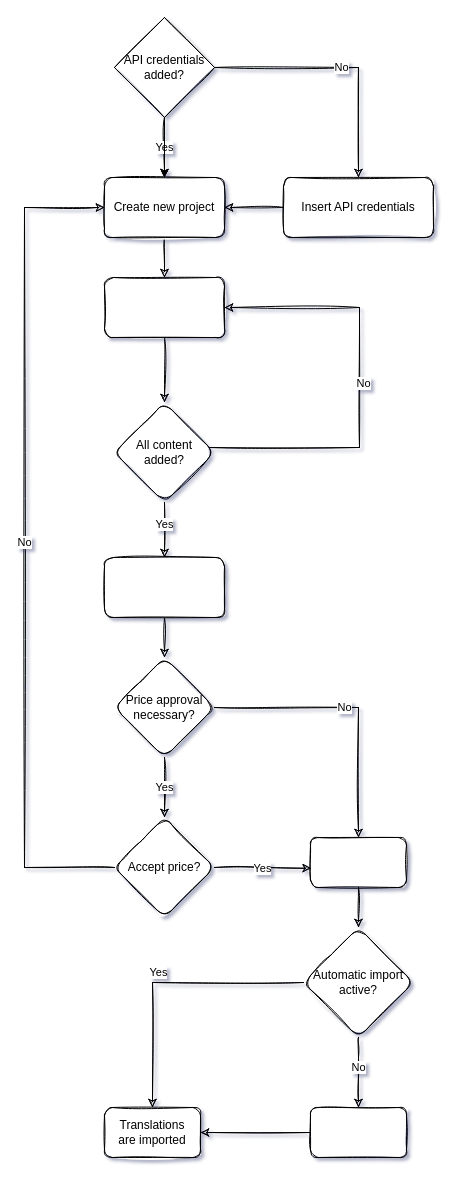
The diagram is 457 pixels wide and 1181 high, and some of its shapes have lost their labels. Each missing label, with the centre of its shape:
"Add content to project" goes at point (164, 307).
"Schedule Import" goes at point (358, 1132).
"Send project to EasyTranslate" goes at point (164, 587).
"Wait for content to be translated" goes at point (358, 862).
